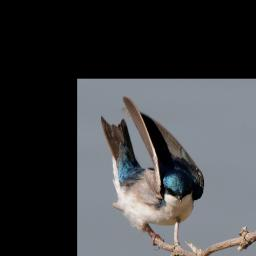Swallow: (99, 95, 205, 250)
